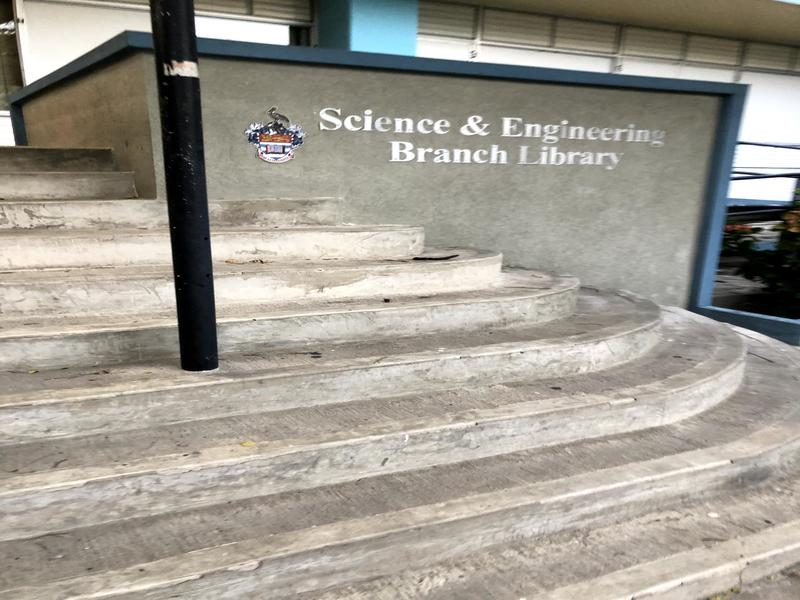18.0053644_-76.7493880_librarysign: (310, 92, 686, 198)
